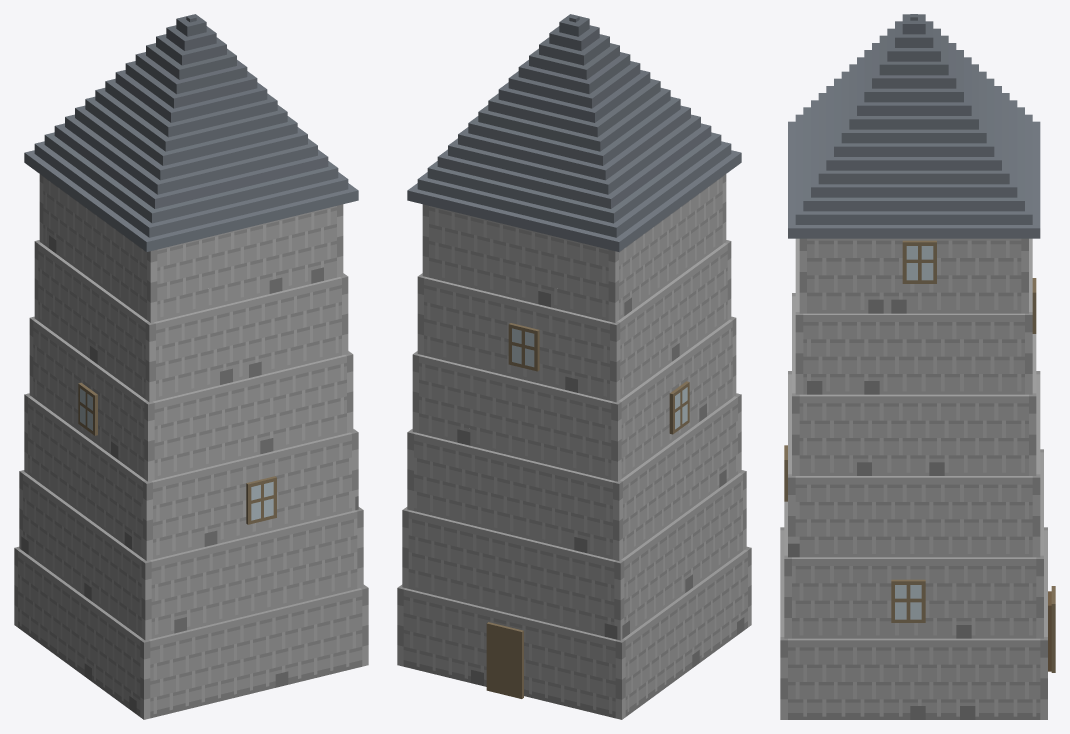
Rendered from torre_mago_02.glb.
3 views of the same model, side by side, from view 1: azimuth 30°, elevation 25°; view 2: azimuth 150°, elevation 25°; view 3: azimuth 270°, elevation 25° (orthographic). The views are drawn at different scales.
Visible parts, largest first — view 1: torre_mago_02; view 2: torre_mago_02; view 3: torre_mago_02.
Part boxes in pixels (box(x1,y1,x2,y2)): torre_mago_02: box(14, 14, 368, 719); torre_mago_02: box(397, 14, 751, 719); torre_mago_02: box(780, 14, 1055, 719).
Size of the model in its own units: 7 by 18.7 by 7.2.
